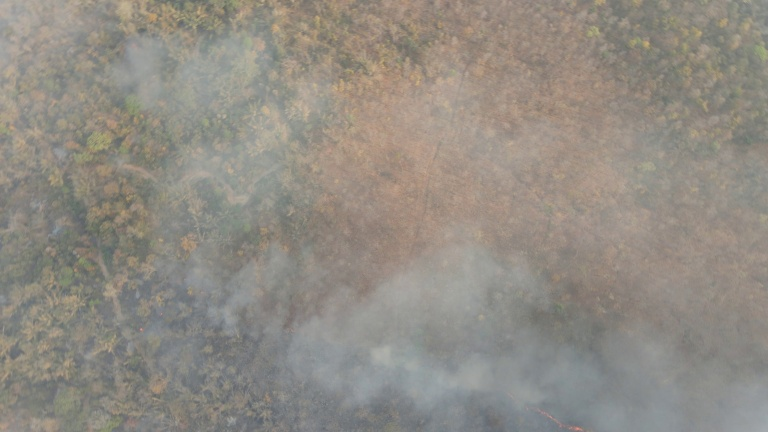fire: (526, 402, 598, 432)
smoke: (270, 231, 720, 432)
